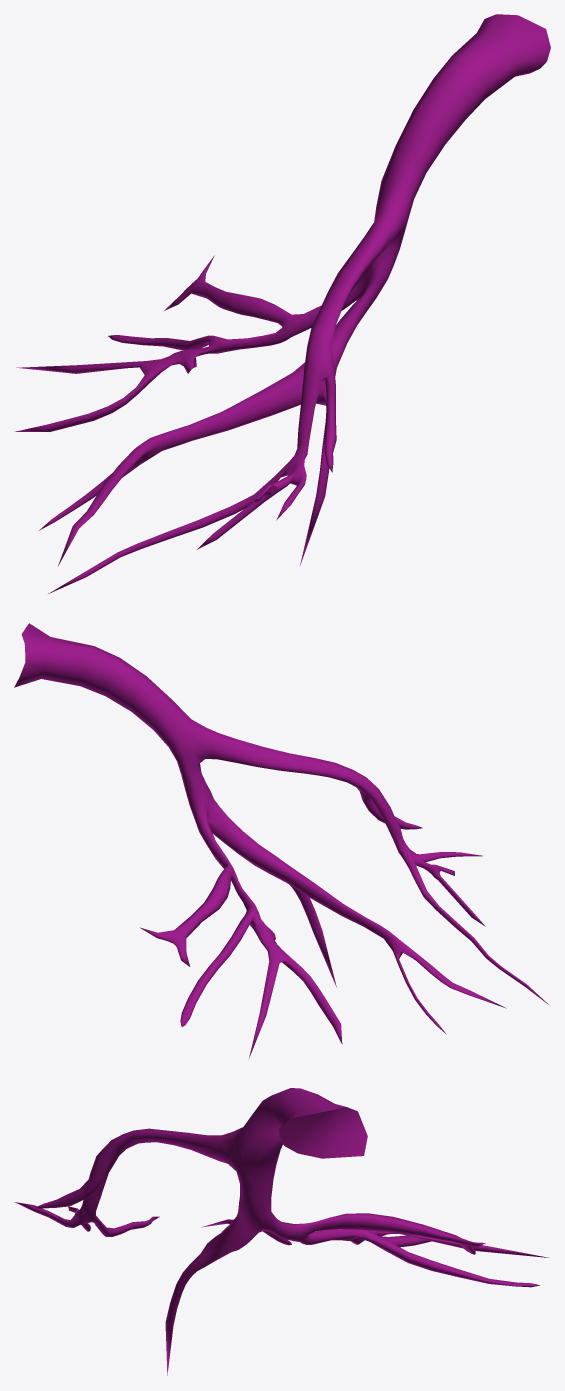
File: Right_Renal_vein_inner.fbx
The picture shows the model from 3 angles, top to bottom: view 1: azimuth 30°, elevation 25°; view 2: azimuth 150°, elevation 25°; view 3: azimuth 270°, elevation 25°; orthographic projection. The views are drawn at different scales.
Parts seen in each view (by area): view 1: Right_Renal_vein_inner; view 2: Right_Renal_vein_inner; view 3: Right_Renal_vein_inner.
Part boxes in pixels (bbox=[...]): Right_Renal_vein_inner: bbox=[14, 14, 550, 593]; Right_Renal_vein_inner: bbox=[14, 623, 548, 1058]; Right_Renal_vein_inner: bbox=[14, 1088, 548, 1375].
Size of the model in its own units: 60.25 by 42.46 by 50.39.
